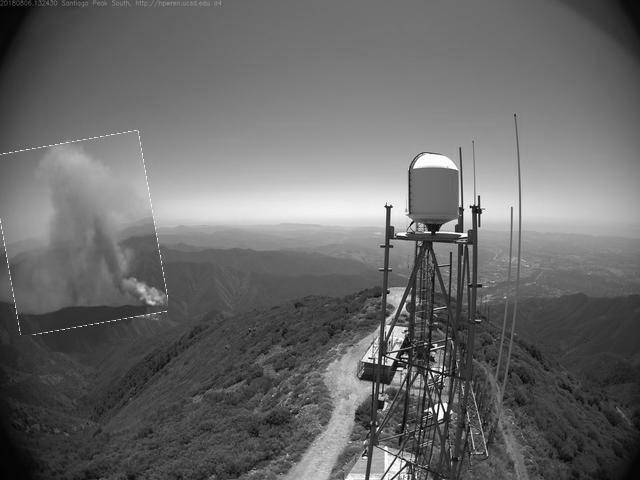smoke: (1, 137, 163, 332)
